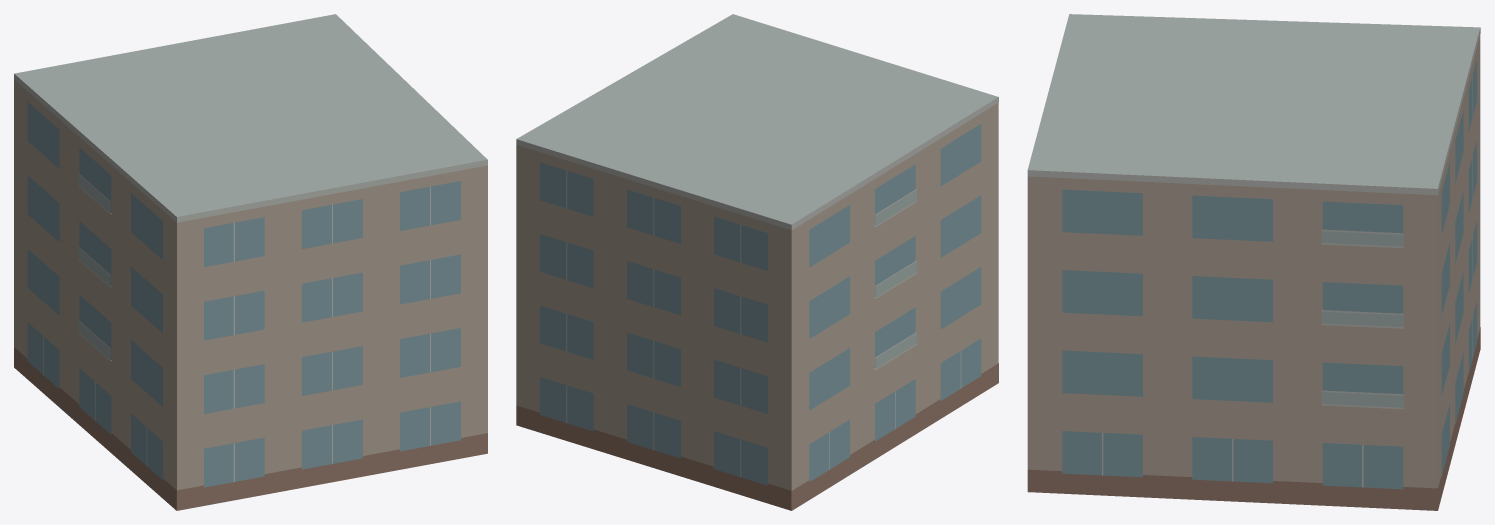
Rendered from survey-upis-32772040.glb.
3 views of the same model, side by side, from view 1: azimuth 30°, elevation 25°; view 2: azimuth 150°, elevation 25°; view 3: azimuth 270°, elevation 25° (orthographic). The views are drawn at different scales.
Visible parts, largest first — view 1: survey-upis-32772040.tmp; view 2: survey-upis-32772040.tmp; view 3: survey-upis-32772040.tmp.
Boxes of the visible parts, <box> form: survey-upis-32772040.tmp: <box>14,14,487,510</box>; survey-upis-32772040.tmp: <box>516,14,998,510</box>; survey-upis-32772040.tmp: <box>1027,14,1480,510</box>.
Size of the model in its own units: 14.55 by 12.48 by 15.92.
